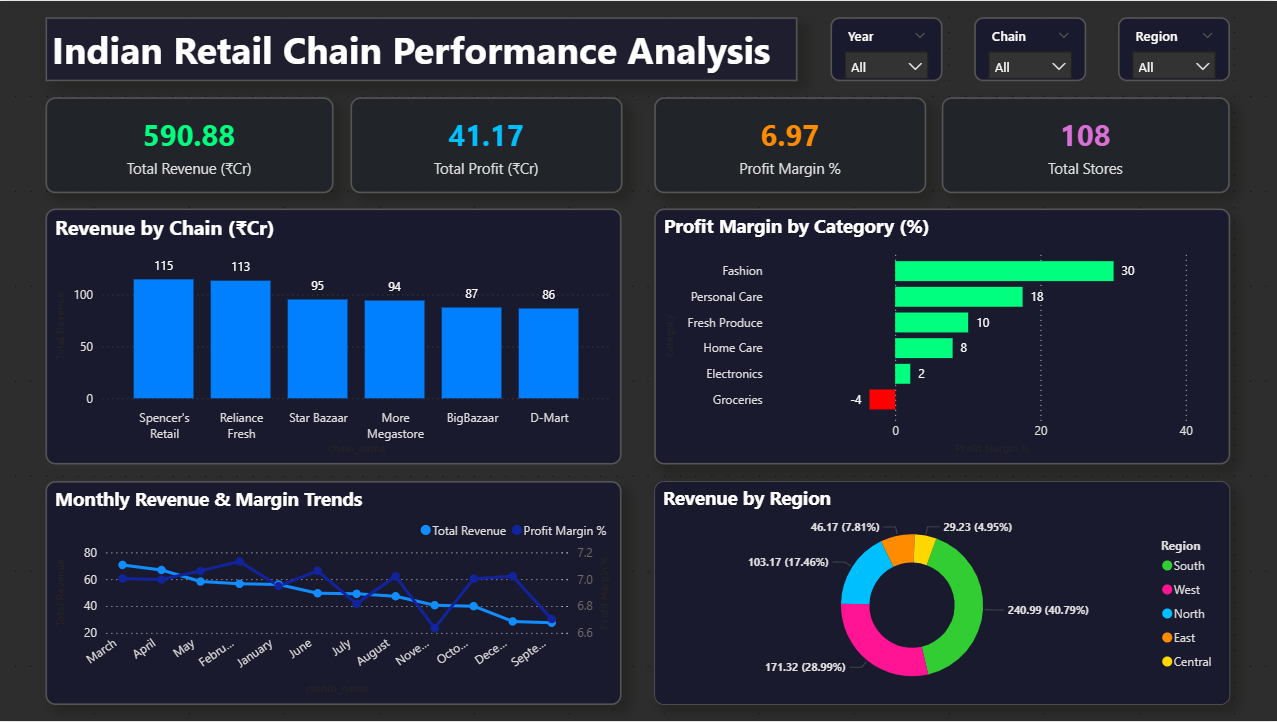

Layout of this report page (visuals, bound fields, positions):
{"tool":"powerbi","page":{"name":"Page 1","canvas":[1280,720],"ordinal":0},"visuals":[{"type":"textbox","box":[48,16,752,64],"z":0},{"type":"card","fields":{"Values":["indian_retail_complete.Total Revenue"]},"box":[48,96,288,96],"z":1000},{"type":"card","fields":{"Values":["indian_retail_complete.Total Profit"]},"box":[352,96,272,96],"z":2000},{"type":"card","fields":{"Values":["indian_retail_complete.Total Stores"]},"box":[944,96,288,96],"z":3000},{"type":"card","fields":{"Values":["indian_retail_complete.Profit Margin %"]},"box":[656,96,272,96],"z":4000},{"type":"clusteredColumnChart","title":"Revenue by Chain (₹Cr)","fields":{"Category":["indian_retail_complete.chain_name"],"Y":["indian_retail_complete.Total Revenue"]},"box":[48,208,576,256],"z":5000},{"type":"clusteredBarChart","title":"Profit Margin by Category (%)","fields":{"Category":["indian_retail_complete.category"],"Y":["indian_retail_complete.Profit Margin %"]},"box":[656,208,576,256],"z":6000},{"type":"lineChart","title":"Monthly Revenue & Margin Trends","fields":{"Category":["indian_retail_complete.month_name"],"Y":["indian_retail_complete.Total Revenue"],"Y2":["indian_retail_complete.Profit Margin %"]},"box":[48,480,576,224],"z":7000},{"type":"donutChart","title":"Revenue by Region","fields":{"Category":["indian_retail_complete.region"],"Y":["indian_retail_complete.Total Revenue"]},"box":[656,480,576,224],"z":8000},{"type":"slicer","fields":{"Values":["indian_retail_complete.year"]},"box":[832,16,112,64],"z":9000},{"type":"slicer","fields":{"Values":["indian_retail_complete.region"]},"box":[1120,16,112,64],"z":10000},{"type":"slicer","fields":{"Values":["indian_retail_complete.chain_name"]},"box":[976,16,112,64],"z":11000}]}

Visuals, with their boxes in screenshot pixels (x1, y1, x2, y2), scaled from the page's 1280x720 canvas onto the 1277x722 screenshot:
textbox: Rect(48, 16, 798, 80)
card - indian_retail_complete.Total Revenue: Rect(48, 96, 335, 193)
card - indian_retail_complete.Total Profit: Rect(351, 96, 623, 193)
card - indian_retail_complete.Total Stores: Rect(942, 96, 1229, 193)
card - indian_retail_complete.Profit Margin %: Rect(654, 96, 926, 193)
"Revenue by Chain (₹Cr)" clusteredColumnChart: Rect(48, 209, 623, 465)
"Profit Margin by Category (%)" clusteredBarChart: Rect(654, 209, 1229, 465)
"Monthly Revenue & Margin Trends" lineChart: Rect(48, 481, 623, 706)
"Revenue by Region" donutChart: Rect(654, 481, 1229, 706)
slicer - indian_retail_complete.year: Rect(830, 16, 942, 80)
slicer - indian_retail_complete.region: Rect(1117, 16, 1229, 80)
slicer - indian_retail_complete.chain_name: Rect(974, 16, 1085, 80)
